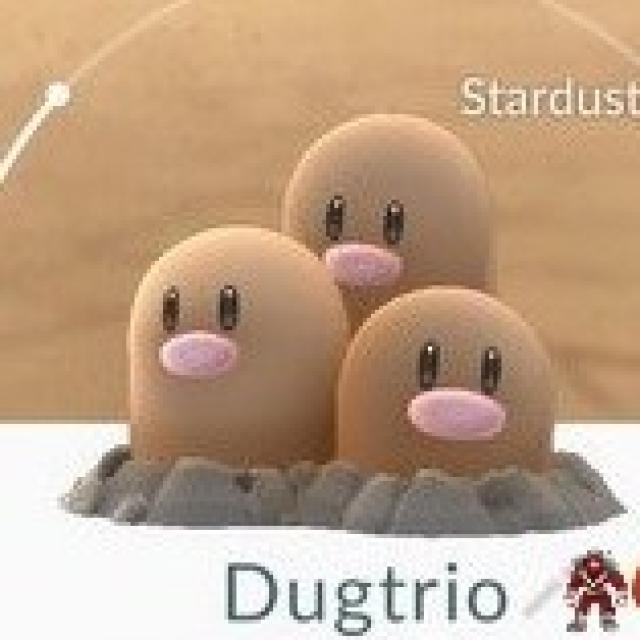Dugtrio: (127, 112, 553, 483)
